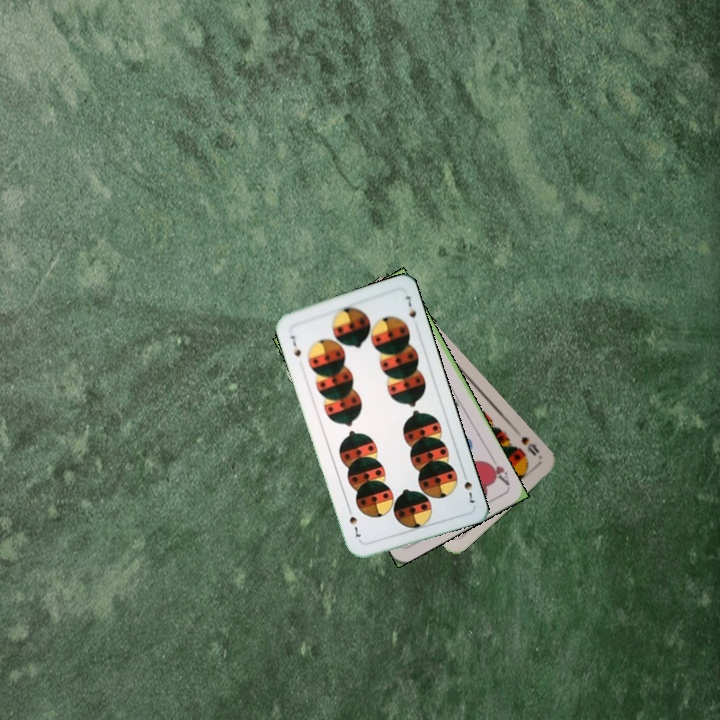HA: (481, 452, 512, 488)
S7: (459, 468, 478, 506), (286, 331, 303, 359)
S8: (517, 432, 542, 458)
